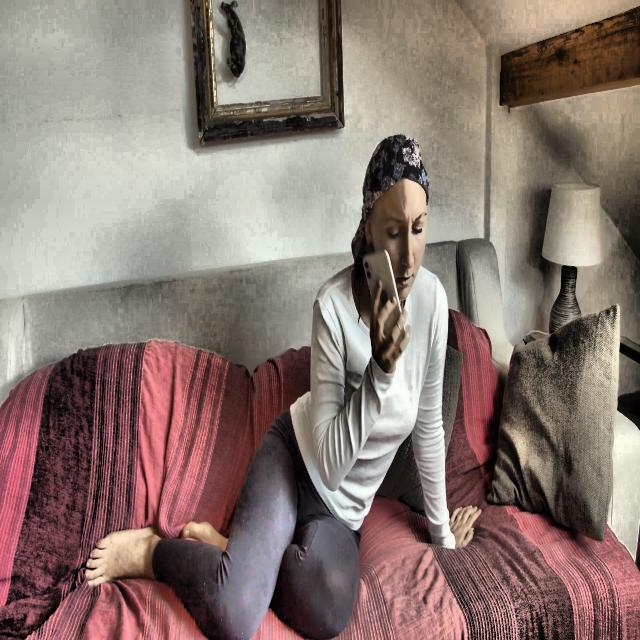Phone: (362, 247, 407, 346)
